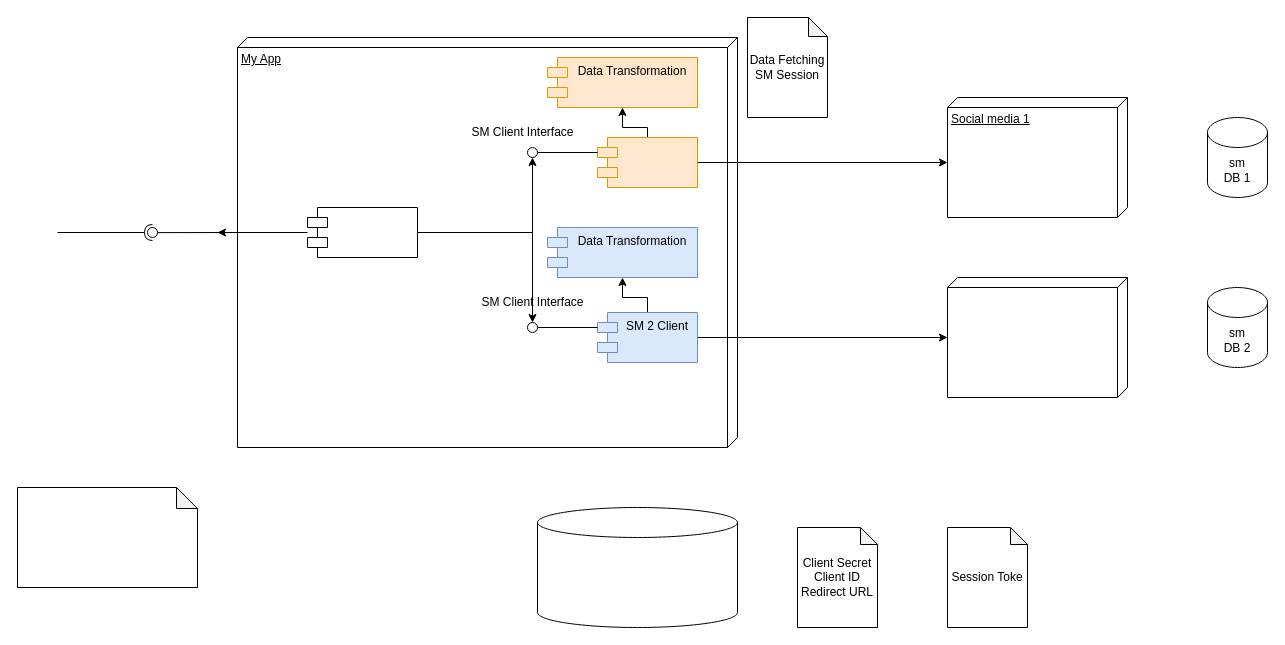
Some shapes in this 1285 by 645 pixel diagram are drawn without their labels. The shapes that lost their labels are listed below. From the top down, each one's centre as x and y in pixels, then its label:
the point at 647,162: SM 1 Client
the point at 362,232: Orchestrator
the point at 1037,337: Social media 2
the point at 107,537: social media accounts app will communicate
the point at 637,567: DB
